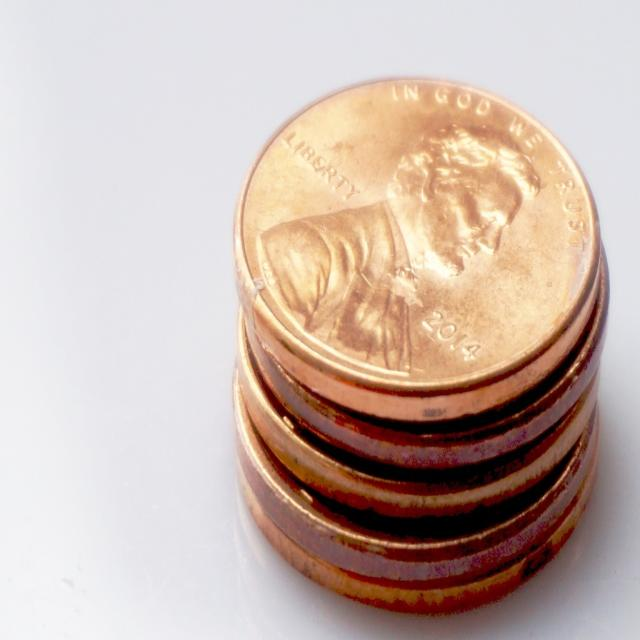Coin: (231, 72, 600, 425), (242, 229, 609, 474), (232, 405, 602, 585), (229, 436, 603, 614), (234, 344, 601, 523)
